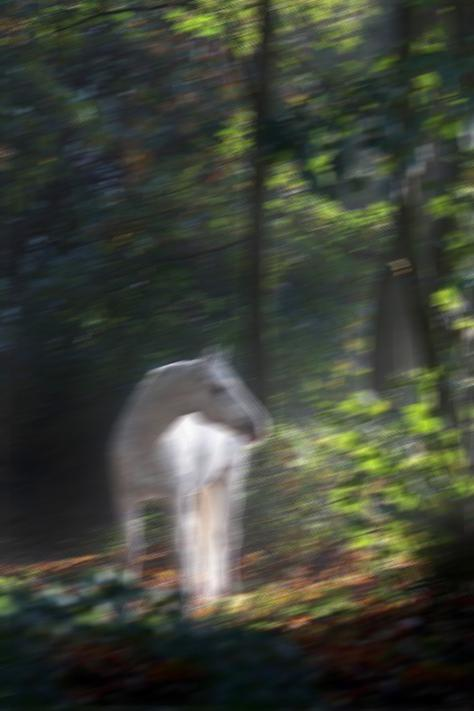horse: (109, 344, 269, 618)
